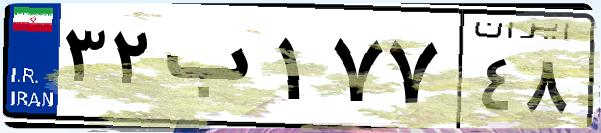1: (270, 28, 330, 110)
2: (110, 28, 158, 98)
3: (57, 26, 110, 100)
4: (475, 38, 525, 113)
7: (385, 28, 445, 110), (330, 28, 385, 110)
8: (525, 38, 570, 115)
ب: (158, 20, 270, 120)
